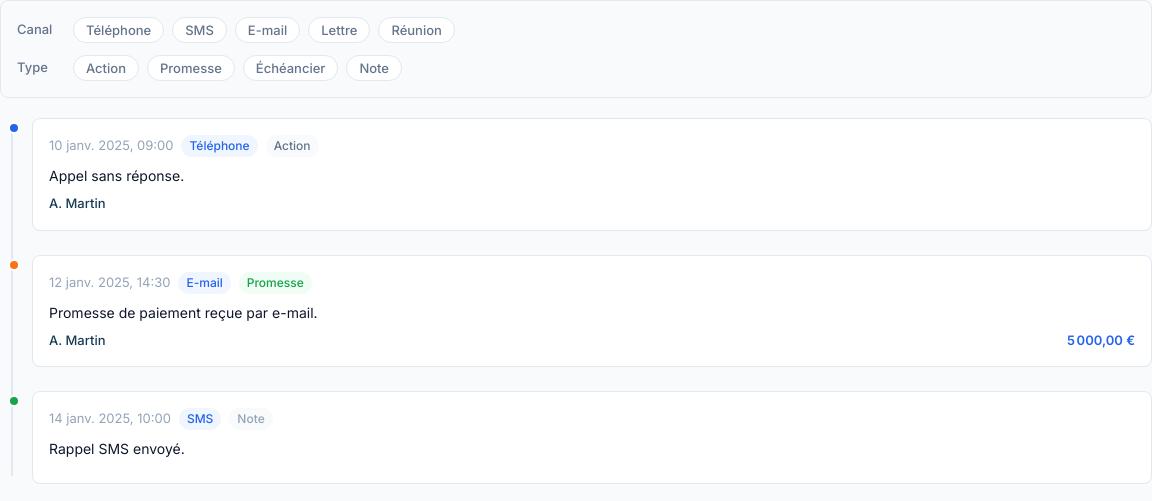
Test: TimelineComponent › should show empty state when filters exclude all events
Step 1. Click the button with class "timeline__filter-btn" showing "Lettre" → click(339, 30), box [308,17,370,43]
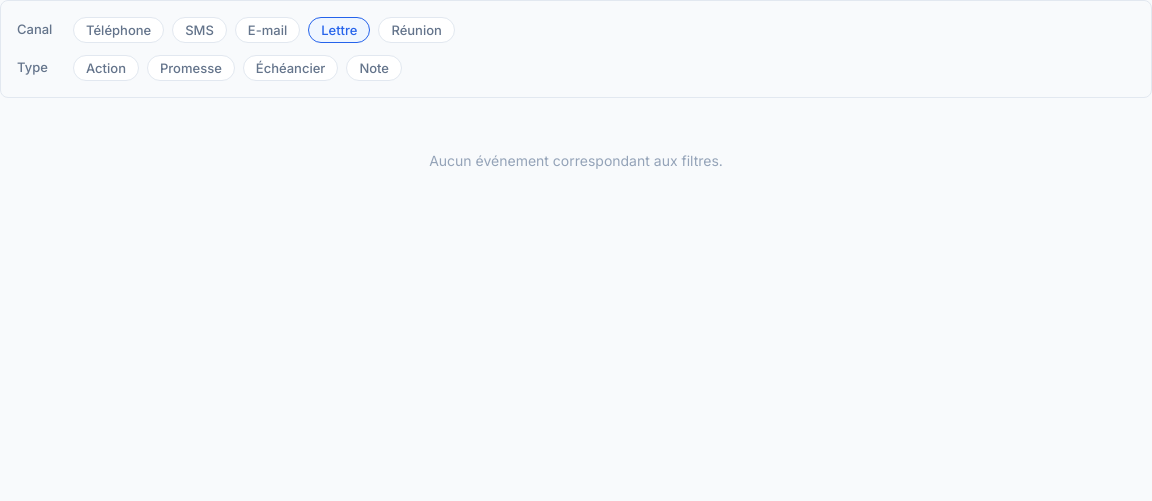
Expected: the message "Aucun événement correspondant aux filtres." is shown, [429,152,723,169]
Expected: no list items with class "timeline__event" are shown
